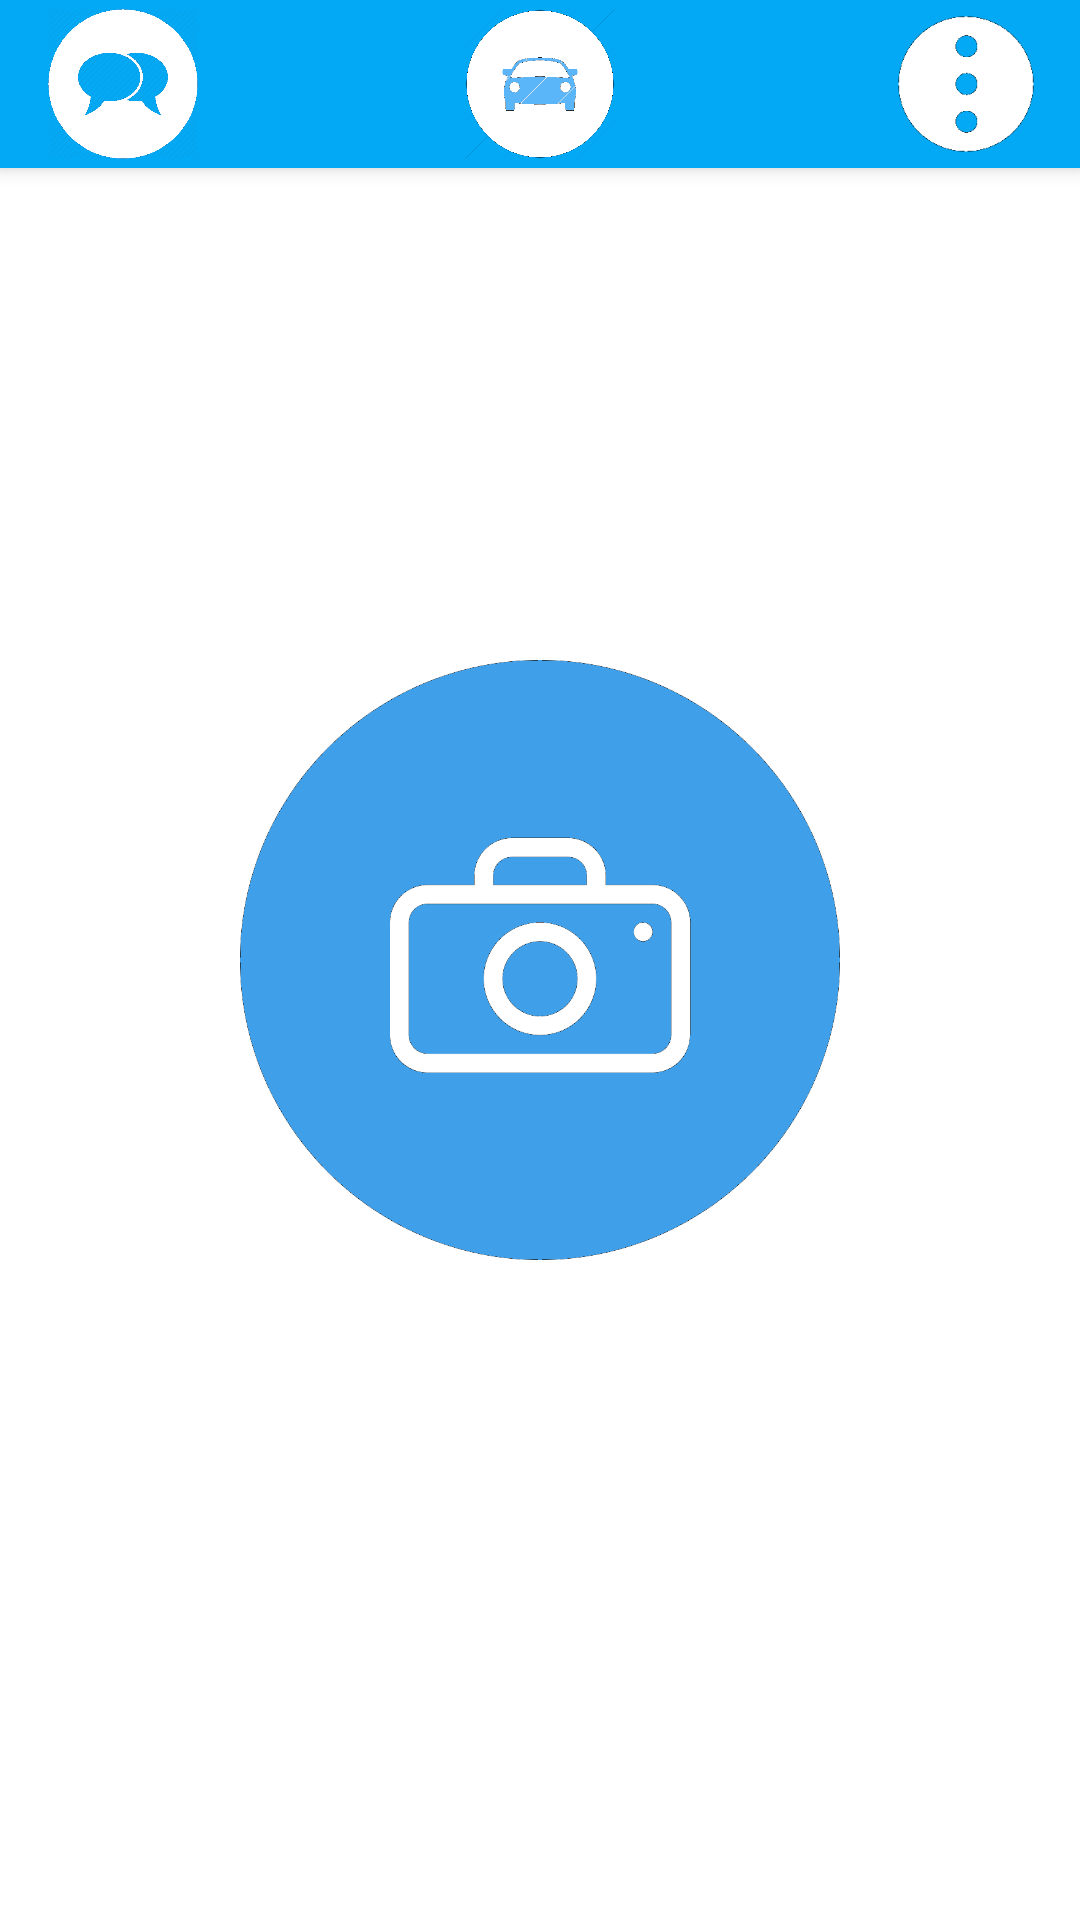

Where to tap for icons on this 1080px×1920px app screen, as [x,y]:
cars: [540,84]
inbox: [123,84]
